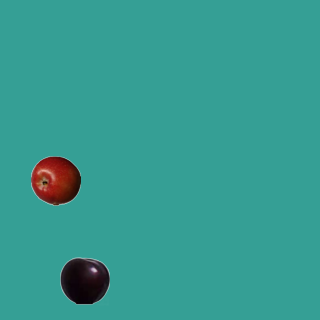Apple Braeburn: (30, 155, 80, 205)
Cherry Wax Black: (59, 255, 109, 305)
